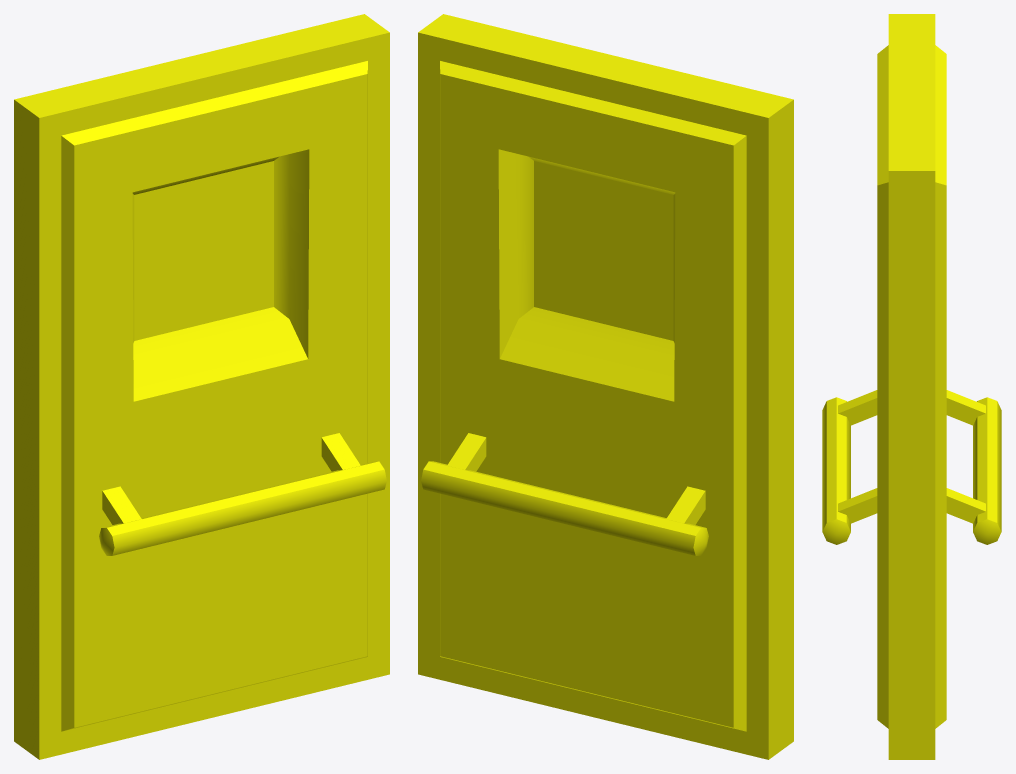
The model's file is kaykit-restaurant-door-b.glb.
3 renders of one model, left to right at view 1: azimuth 30°, elevation 25°; view 2: azimuth 150°, elevation 25°; view 3: azimuth 270°, elevation 25°, orthographic. The views are drawn at different scales.
Parts seen in each view (by area): view 1: door_B; view 2: door_B; view 3: door_B.
Part boxes in pixels (x1=…): door_B: x1=14, y1=14, x2=389, y2=759; door_B: x1=418, y1=14, x2=793, y2=759; door_B: x1=822, y1=14, x2=1001, y2=759.
Bounding box in the file's own units: 1.6 × 2.8 × 0.7715.
